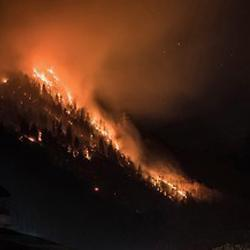fire: (34, 61, 74, 89)
